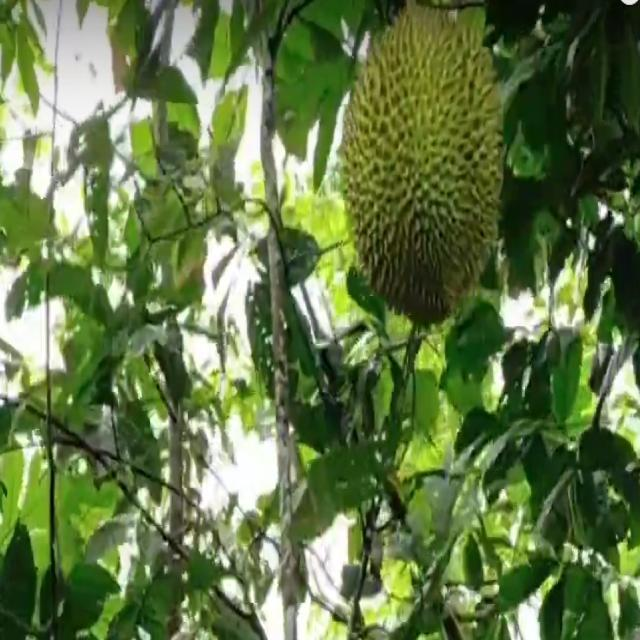immature: (341, 2, 509, 321)
